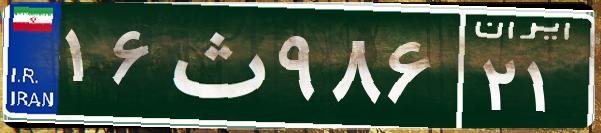1: (57, 26, 110, 107), (525, 38, 570, 115)
2: (475, 38, 525, 113)
6: (385, 28, 445, 110), (110, 28, 158, 105)
8: (330, 28, 385, 110)
9: (273, 28, 330, 110)
ث: (158, 15, 273, 115)
